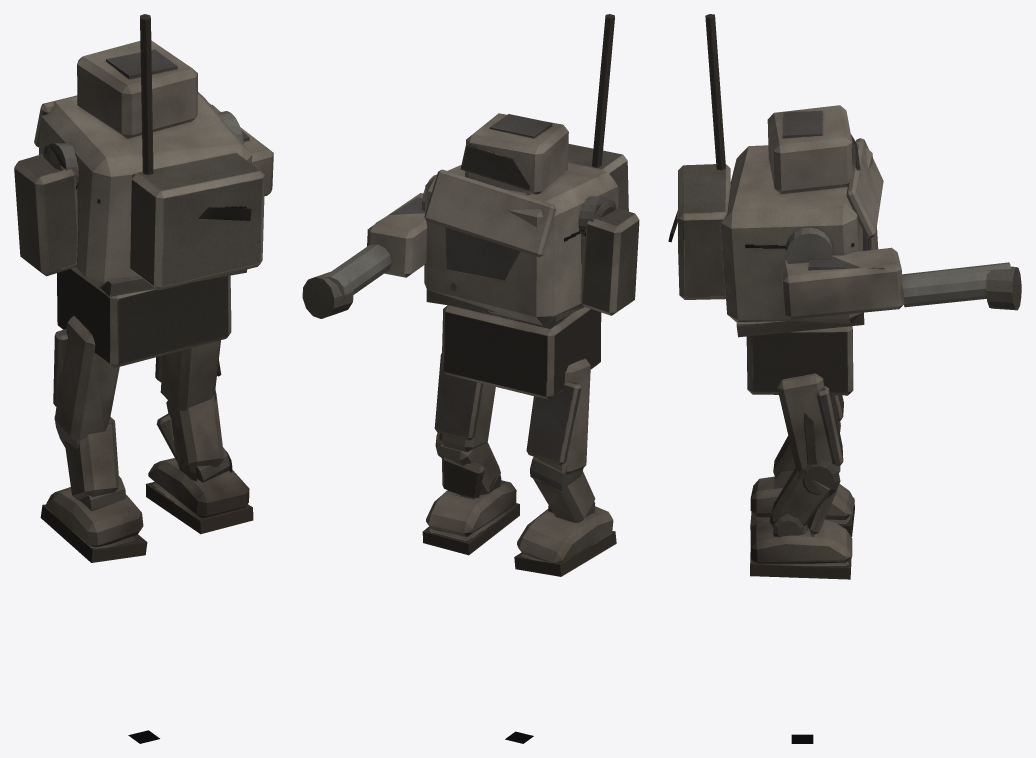
Rendered from ord_squire_wreck.fbx.
The picture shows the model from 3 angles, left to right: view 1: azimuth 30°, elevation 25°; view 2: azimuth 150°, elevation 25°; view 3: azimuth 270°, elevation 25°; orthographic projection. The views are drawn at different scales.
Visible parts, largest first — view 1: torso_bar, base_bar, thighL_bar, footR_bar, footL_bar, shinR_bar, shinL_bar, thighR_bar; view 2: torso_bar, base_bar, thighL_bar, footL_bar, footR_bar, thighR_bar, shinR_bar, shinL_bar; view 3: torso_bar, base_bar, thighR_bar, footR_bar, shinR_bar, footL_bar, shinL_bar.
Boxes of the visible parts, x1,y1,x2,y2 form: torso_bar: [14, 14, 273, 296]; base_bar: [57, 267, 231, 367]; thighL_bar: [53, 316, 119, 449]; footR_bar: [145, 458, 253, 534]; footL_bar: [40, 487, 147, 562]; shinR_bar: [156, 393, 232, 482]; shinL_bar: [64, 417, 126, 510]; thighR_bar: [155, 340, 221, 410]; torso_bar: [302, 14, 639, 325]; base_bar: [441, 305, 601, 399]; thighL_bar: [526, 358, 590, 493]; footL_bar: [514, 506, 616, 576]; footR_bar: [422, 480, 519, 555]; thighR_bar: [434, 353, 495, 456]; shinR_bar: [439, 442, 501, 498]; shinL_bar: [533, 471, 595, 522]; torso_bar: [668, 14, 1021, 337]; base_bar: [746, 326, 853, 395]; thighR_bar: [777, 373, 843, 496]; footR_bar: [750, 520, 852, 579]; shinR_bar: [769, 468, 836, 536]; footL_bar: [750, 476, 854, 536]; shinL_bar: [773, 436, 795, 488].
Size of the model in its own units: 237 by 714 by 325.
Materials: 2 (2 with a texture image).
